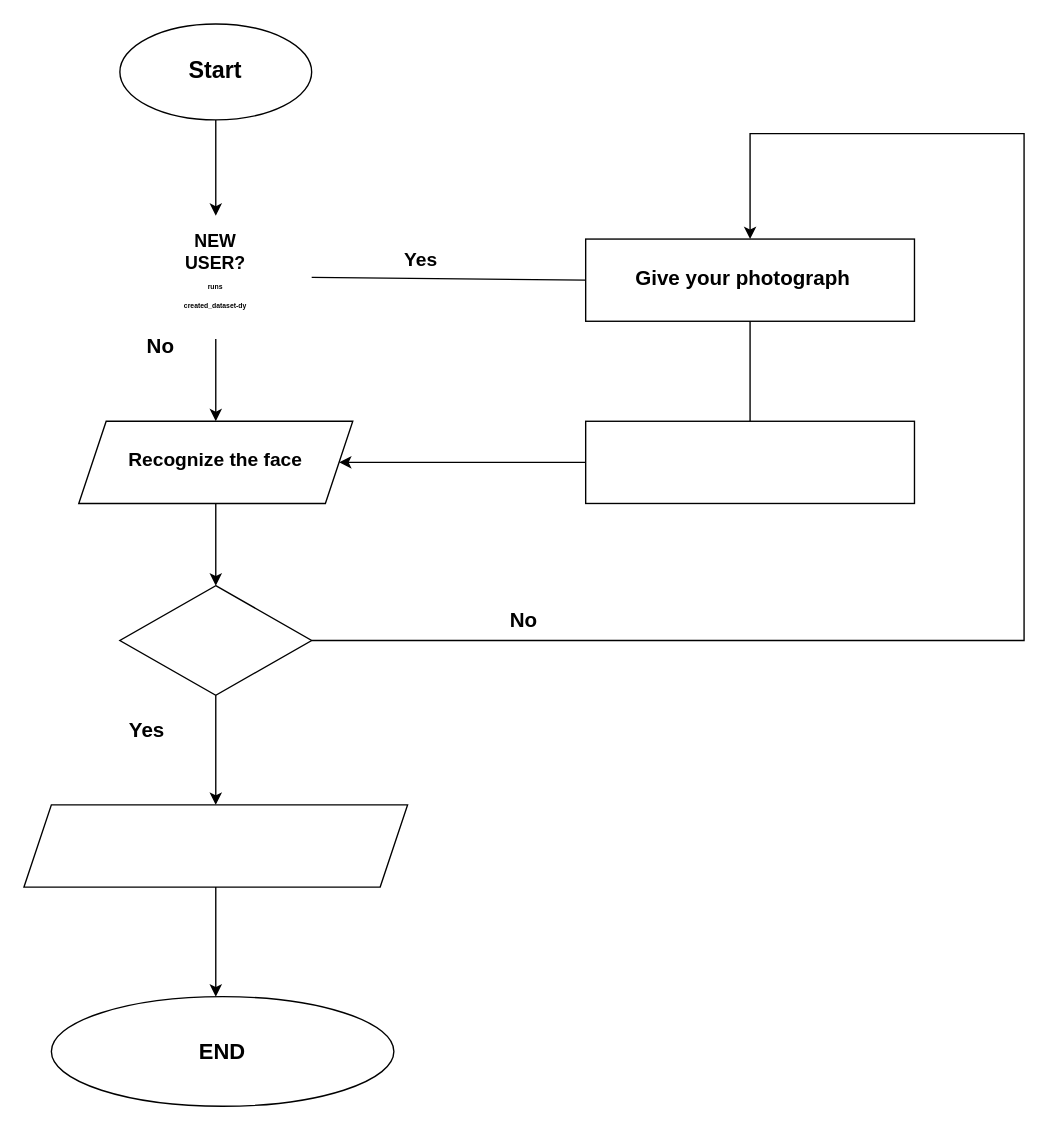
Some shapes in this 1059 by 1130 pixel diagram are drawn without their labels. The shapes that lost their labels are listed below. From the top down, each one's centre as x and y in pixels, then its label:
At point (749, 461): "Store the face data in folder on your name".
At point (215, 639): "Face recognized".
At point (215, 845): "Stored in csv file with Registration Number & Date Time of Entity".
